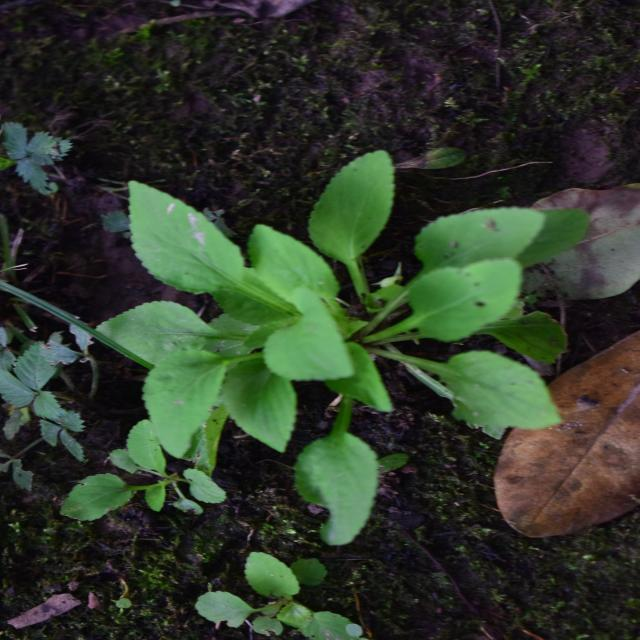Viola: (182, 112, 470, 551)
